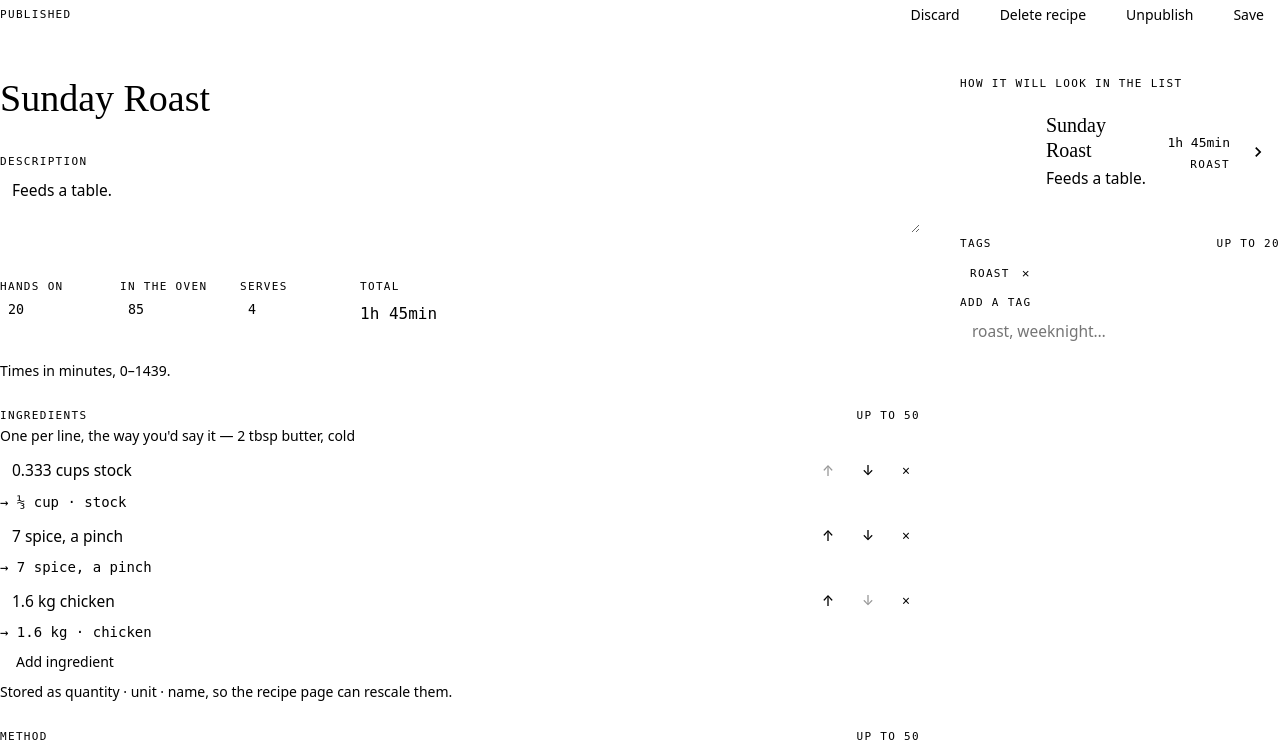
Test: RecipeFormPage — review fixes › says a failed delete could not be deleted, without asking the user to fix anything
This screenshot has width=1280, height=748.
Click the button "Delete recipe" at {"x": 1043, "y": 15}, box x1=984 y1=0 x2=1102 y2=30
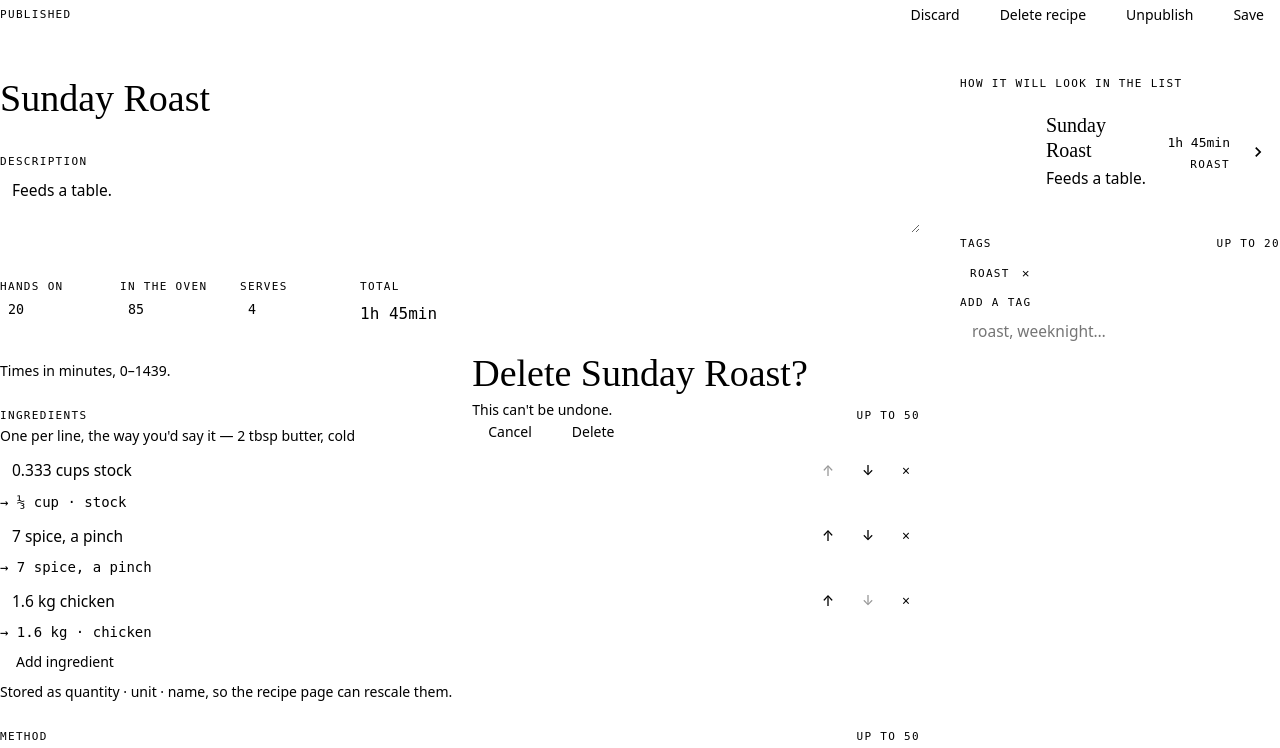
Click the button "Delete" at {"x": 593, "y": 432}, box x1=556 y1=417 x2=630 y2=447
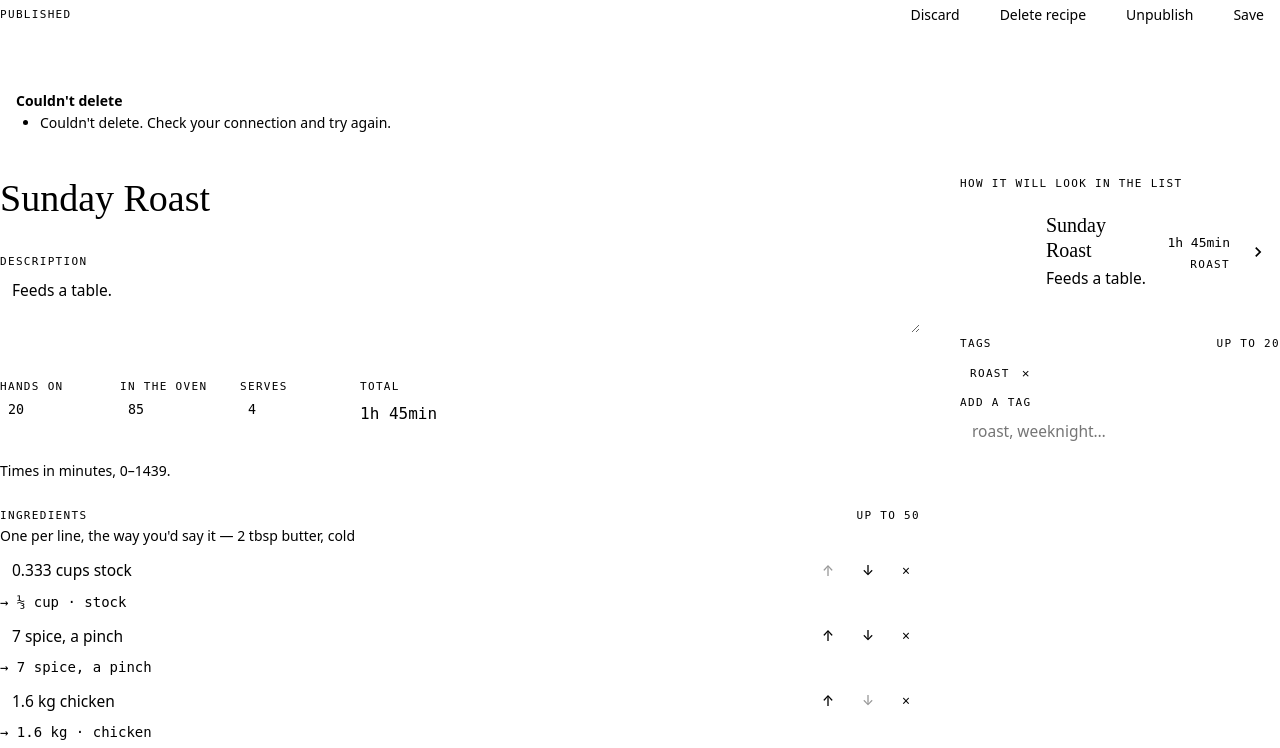
Expected: the list item "Couldn't delete. Check your connection and try again." is shown, x1=40 y1=113 x2=391 y2=132
